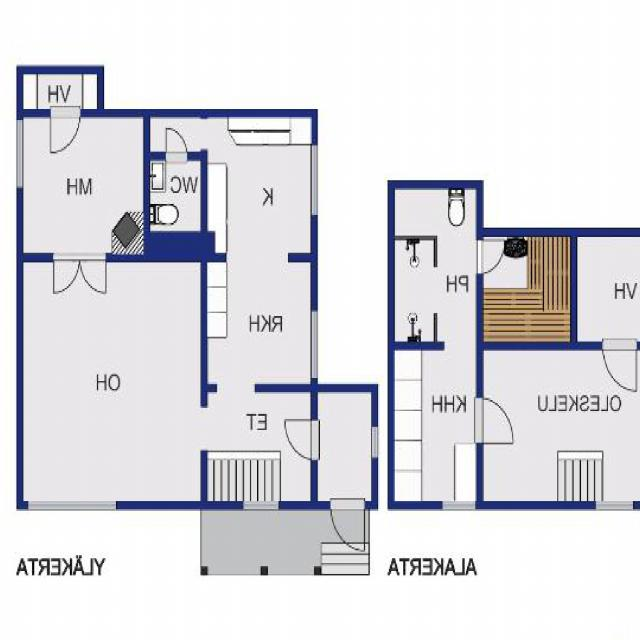door: (602, 341, 636, 395), (331, 502, 365, 554), (476, 398, 516, 442), (281, 420, 318, 460), (50, 108, 80, 157), (53, 254, 80, 296), (80, 254, 106, 296), (476, 240, 507, 272), (167, 124, 187, 160)
